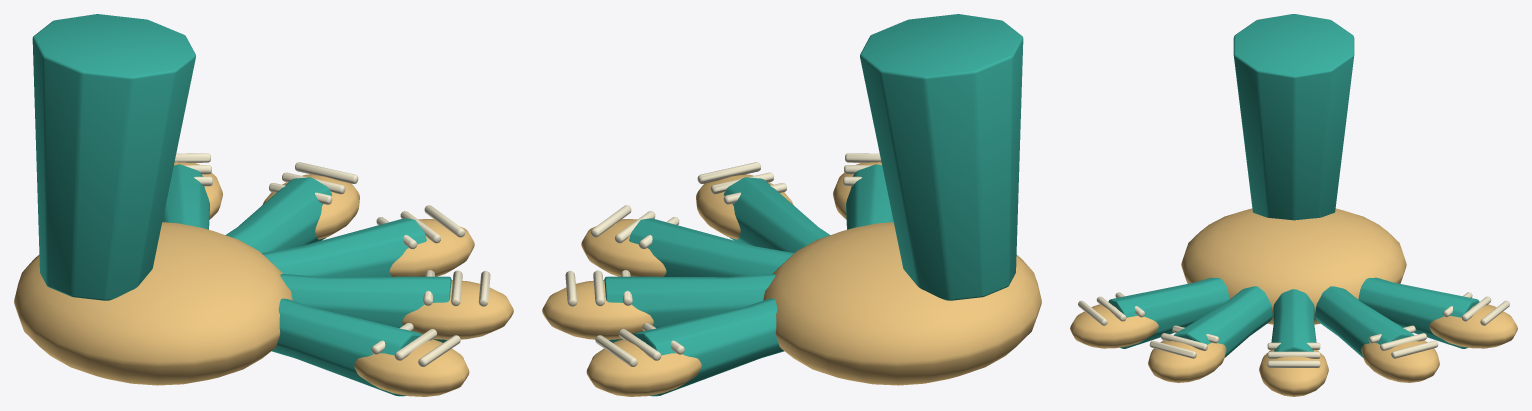
Rendered from foot_gecko.glb.
The picture shows the model from 3 angles, left to right: view 1: azimuth 30°, elevation 25°; view 2: azimuth 150°, elevation 25°; view 3: azimuth 270°, elevation 25°; orthographic projection. The views are drawn at different scales.
Visible parts, largest first — view 1: foot_gecko; view 2: foot_gecko; view 3: foot_gecko.
Boxes of the visible parts, bbox=[...] form: foot_gecko: bbox=[14, 14, 513, 396]; foot_gecko: bbox=[542, 14, 1041, 396]; foot_gecko: bbox=[1070, 14, 1517, 396].
Size of the model in its own units: 1.09 by 0.7857 by 1.27.
